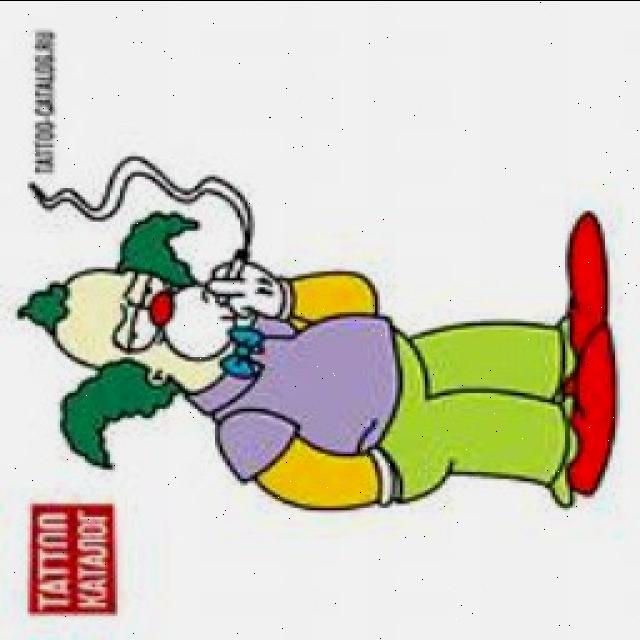Krusty the Clown: (12, 204, 252, 472)
